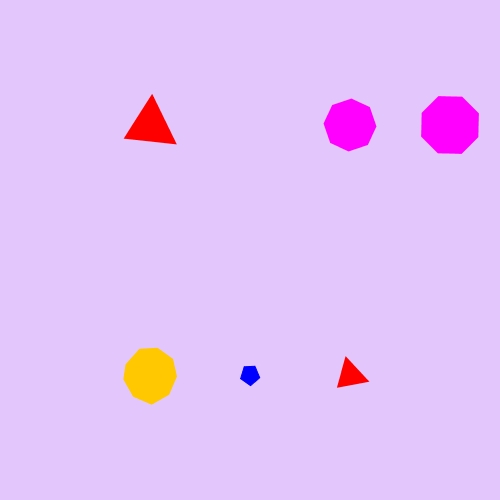nonagon: (119, 345, 182, 405)
octagon: (416, 91, 485, 160), (320, 95, 380, 155)
pentagon: (236, 361, 265, 390)
triangle: (123, 97, 177, 154), (332, 356, 369, 395)
